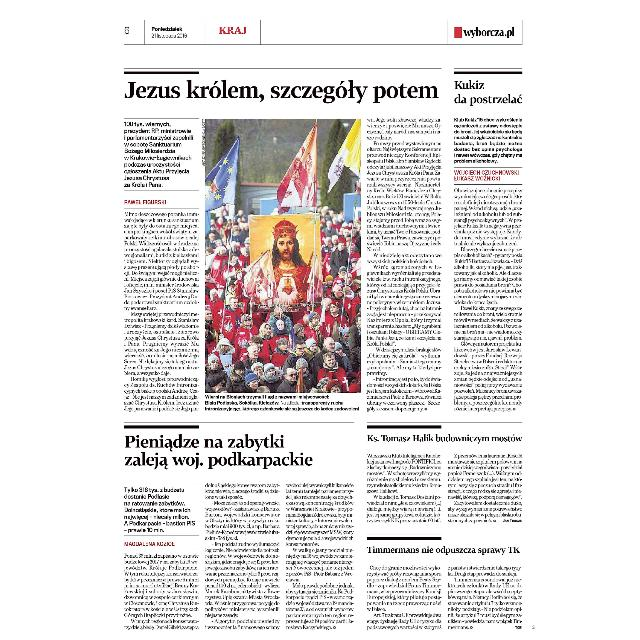article: (122, 69, 444, 415), (124, 423, 356, 631), (452, 69, 526, 415), (364, 423, 528, 527), (364, 536, 526, 634)
